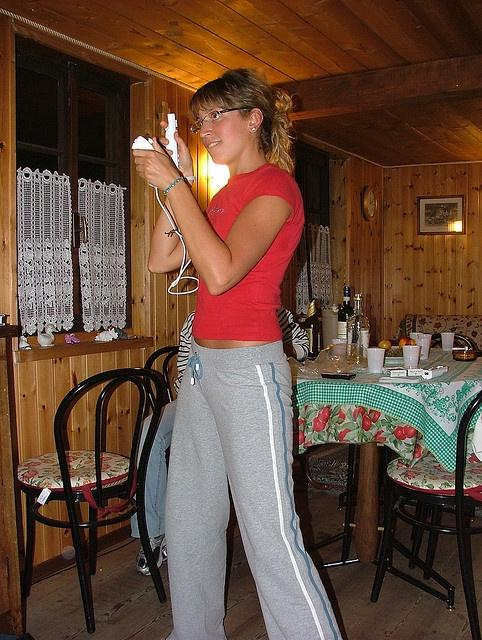Kursi: (16, 366, 163, 633), (368, 390, 481, 639)
